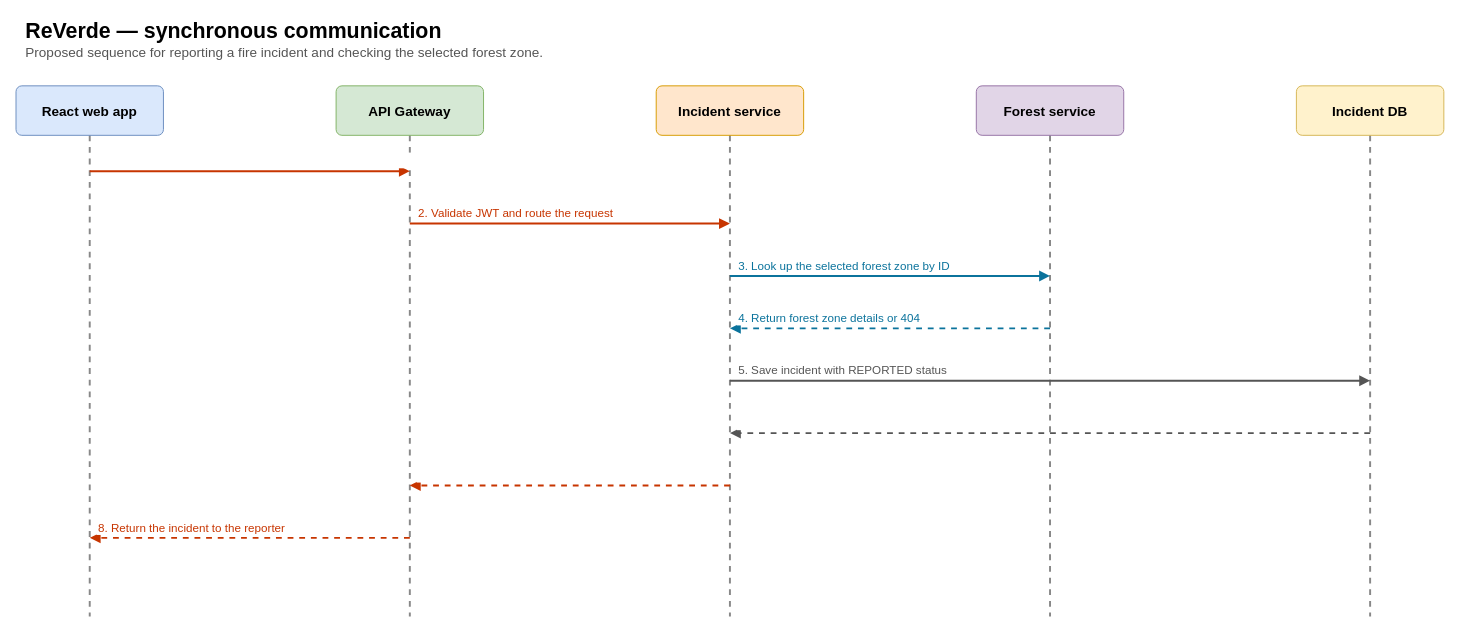
Some shapes in this 1460 by 632 pixel diagram are drawn without their labels. The shapes that lost their labels are listed below. From the top down, each one's centre as x and y in pixels, then its label:
the point at 265,160: 1. POST /api/incidents with forestZoneId and bearer JWT
the point at 814,422: 6. Return the incident ID
the point at 461,474: 7. 201 Created
